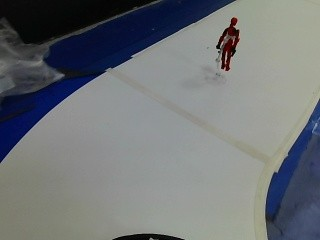pedestrian: (215, 15, 239, 72)
